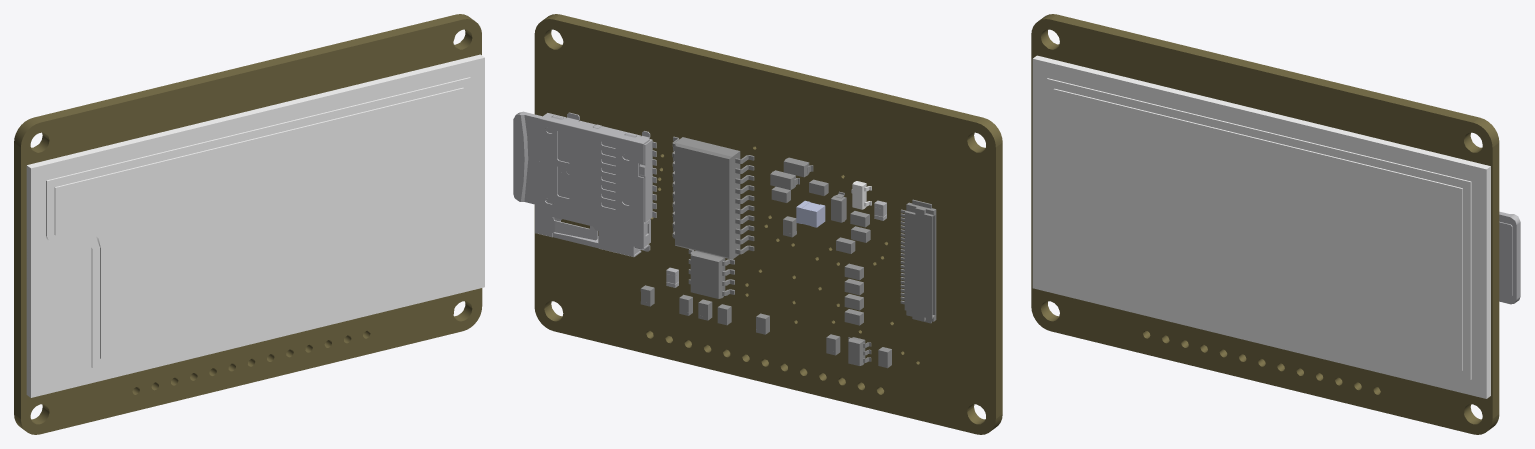
The model's file is ada-4086.glb.
3 renders of one model, left to right at view 1: azimuth 30°, elevation 25°; view 2: azimuth 150°, elevation 25°; view 3: azimuth 330°, elevation 25°, orthographic.
Visible parts, largest first — view 1: 1_1_1_0.85, 0.16666666666666666_0.16666666666666666_0.08333333333333333_; view 2: 0.16666666666666666_0.16666666666666666_0.08333333333333333_, 0.3333333333333333_0.3333333333333333_0.3333333333333333_0, 0.5833333333333334_0.5833333333333334_0.5833333333333334_0.8, 0.5833333333333334_0.6666666666666666_0.8333333333333334_0; view 3: 1_1_1_0.85, 0.16666666666666666_0.16666666666666666_0.08333333333333333_, 0.5833333333333334_0.5833333333333334_0.5833333333333334_0.8.
Boxes of the visible parts, left/top/right/bottom form: 1_1_1_0.85: left=26, top=54, right=484, bottom=397; 0.16666666666666666_0.16666666666666666_0.08333333333333333_: left=14, top=14, right=482, bottom=434; 0.16666666666666666_0.16666666666666666_0.08333333333333333_: left=534, top=14, right=1002, bottom=434; 0.3333333333333333_0.3333333333333333_0.3333333333333333_0: left=640, top=136, right=936, bottom=368; 0.5833333333333334_0.5833333333333334_0.5833333333333334_0.8: left=513, top=111, right=886, bottom=287; 0.5833333333333334_0.6666666666666666_0.8333333333333334_0: left=796, top=200, right=825, bottom=227; 1_1_1_0.85: left=1032, top=55, right=1490, bottom=398; 0.16666666666666666_0.16666666666666666_0.08333333333333333_: left=1031, top=14, right=1499, bottom=434; 0.5833333333333334_0.5833333333333334_0.5833333333333334_0.8: left=1499, top=211, right=1520, bottom=304.
Size of the model in its own units: 6.27 by 3.94 by 0.562.
